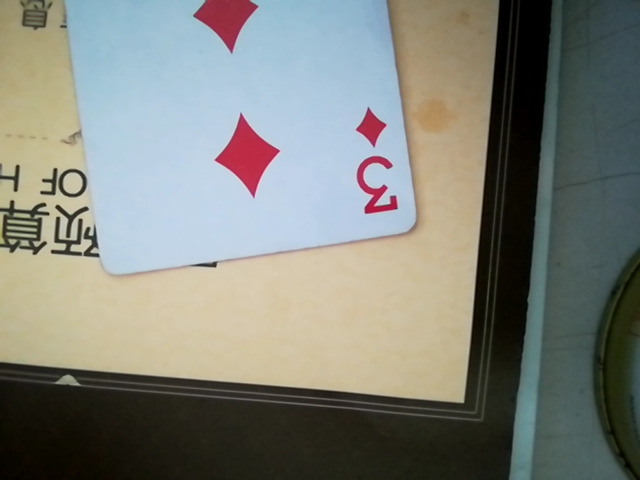fk 3: (48, 3, 418, 280)
